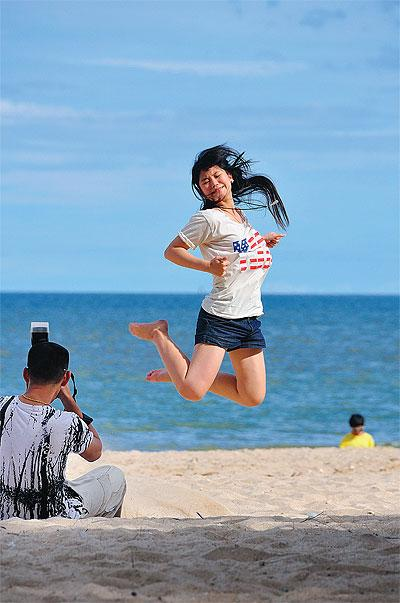person: (127, 142, 284, 410)
